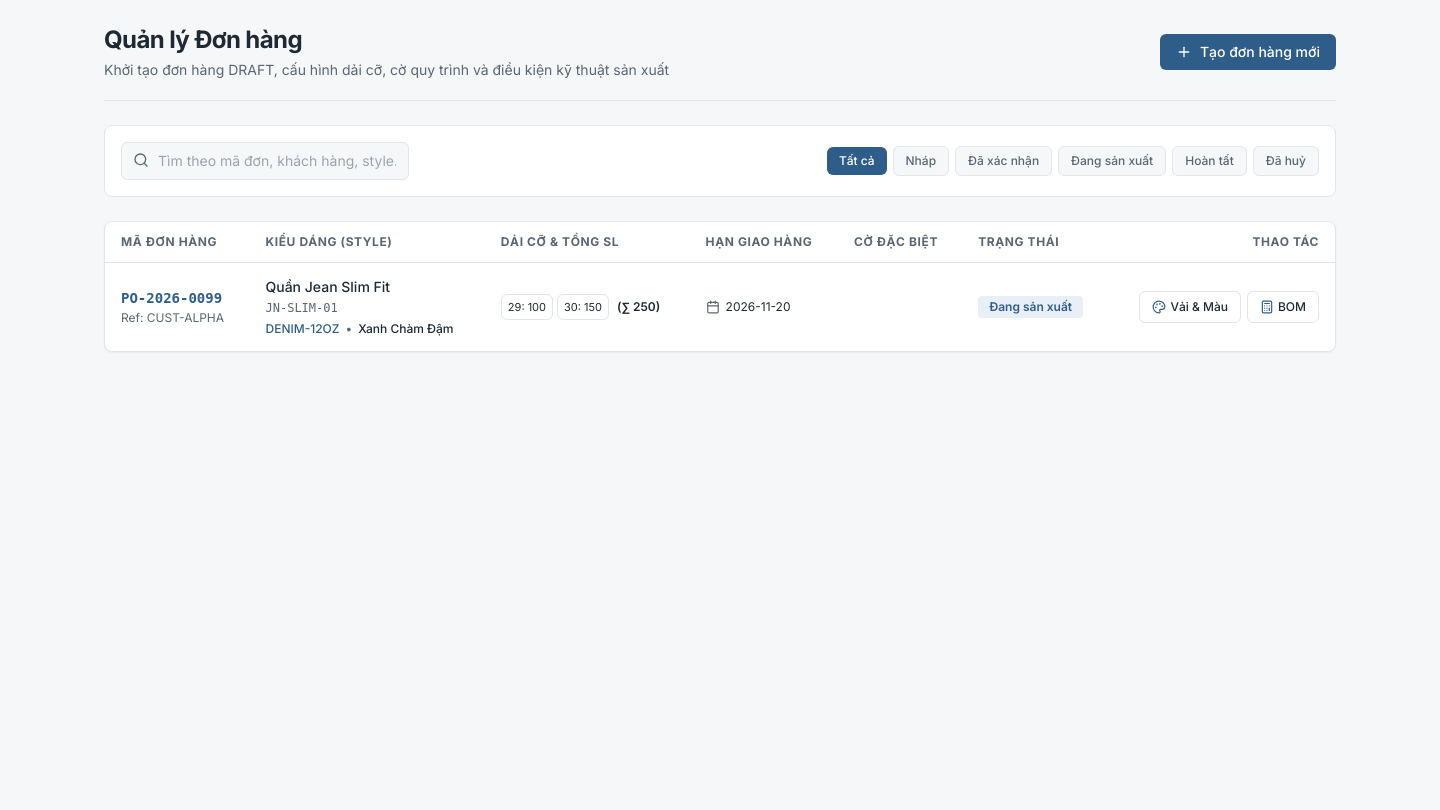
OrdersPage › BR-05: locks fabric/color editing when CUTTING has started (order IN_PRODUCTION)
The width and height of the screenshot is (1440, 810).
Click the button "Vải & Màu". click: coordinates (1190, 307)
box: [1139,291,1241,323]
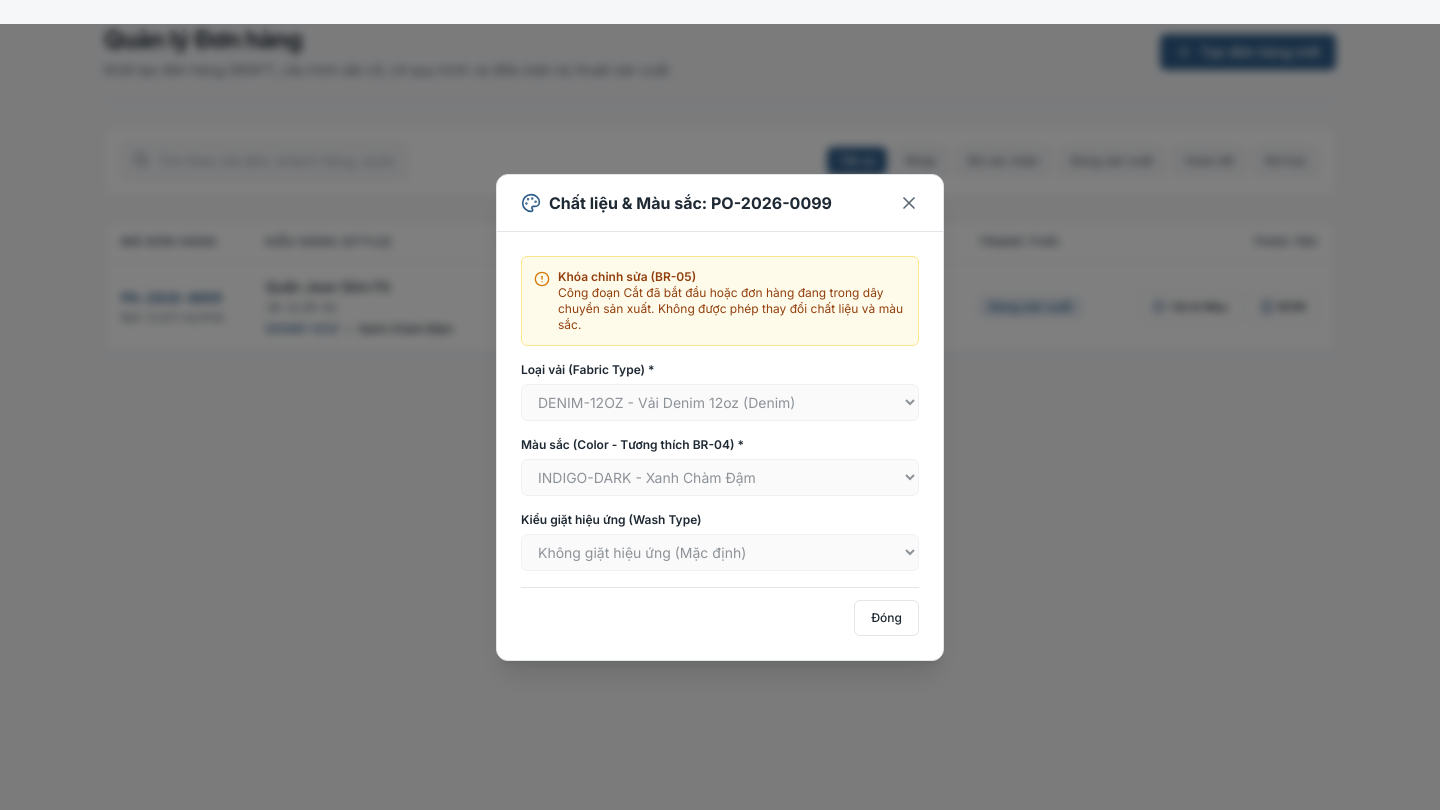
Expected: the text "Khóa chỉnh sửa (BR-05)" is shown, [558,268,696,284]
Expected: the dropdown labelled "Loại vải (Fabric Type) *" is disabled, [521,384,919,420]
